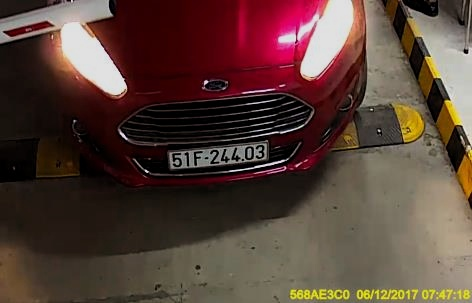plate: (163, 137, 274, 171)
